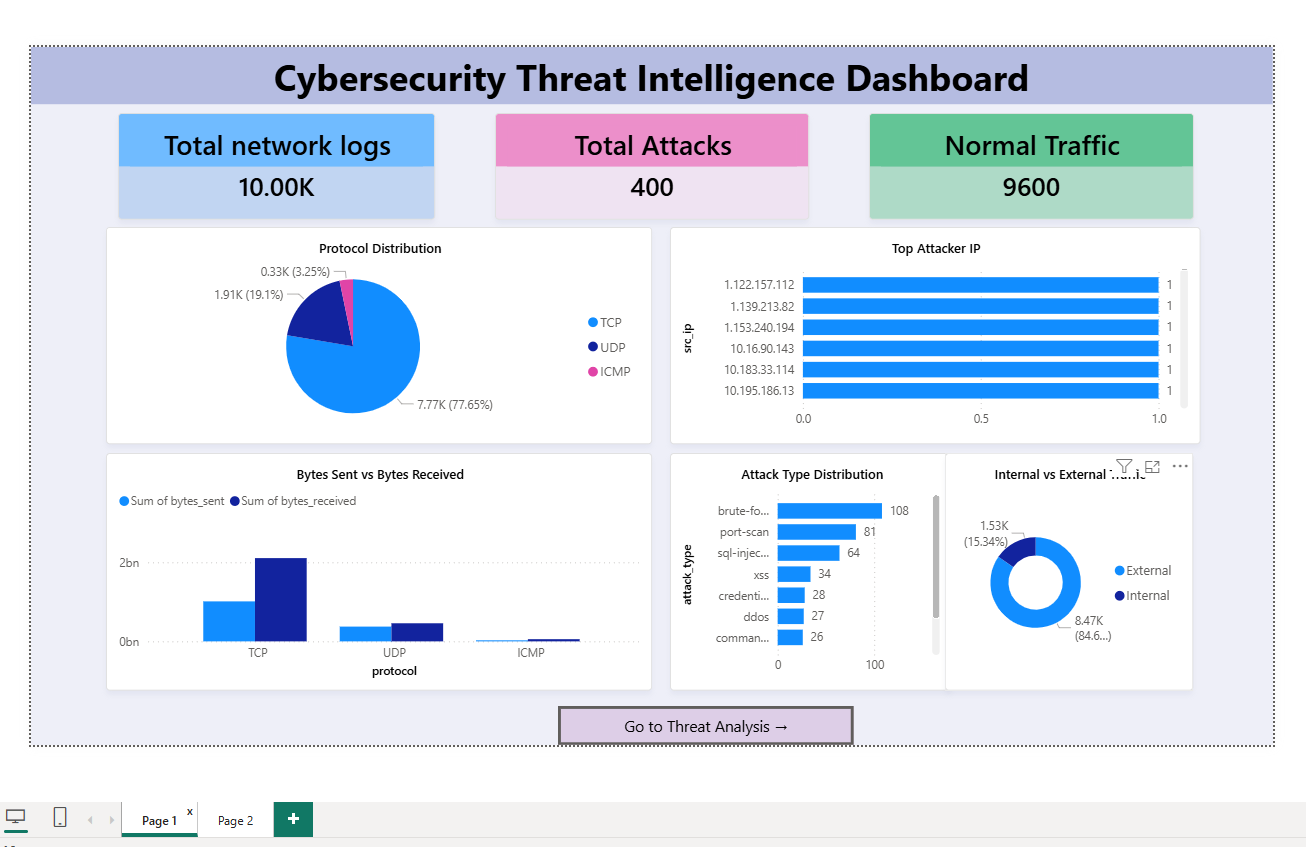

This screenshot's page, from the dashboard's own definition file:
{"tool":"powerbi","page":{"name":"Page 1","canvas":[1280,720],"ordinal":0},"visuals":[{"type":"textbox","box":[0,0,1280,59.2],"z":0},{"type":"card","title":"Total network logs","fields":{"Values":["CountNonNull(cybersecurity.timestamp)"]},"box":[89.4,68.3,326.9,109.6],"z":1000},{"type":"card","title":"Total Attacks","fields":{"Values":["CountNonNull(cybersecurity.attack_type)"]},"box":[477.9,68.3,324,109.6],"z":2000},{"type":"pieChart","title":"Protocol Distribution","fields":{"Category":["cybersecurity.protocol"],"Y":["CountNonNull(cybersecurity.protocol)"]},"box":[76.9,185.6,563.5,224],"z":3000},{"type":"clusteredBarChart","title":"Attack Type Distribution","fields":{"Category":["cybersecurity.attack_type"],"Y":["CountNonNull(cybersecurity.attack_type)"]},"box":[658.7,418.3,291.3,245.2],"z":4000},{"type":"clusteredBarChart","title":"Top Attacker IP","fields":{"Category":["cybersecurity.src_ip"],"Y":["CountNonNull(cybersecurity.src_ip)"]},"box":[658.7,185.6,547.1,224],"z":5000},{"type":"clusteredColumnChart","title":"Bytes Sent vs Bytes Received","fields":{"Category":["cybersecurity.protocol"],"Y":["Sum(cybersecurity.bytes_sent)","Sum(cybersecurity.bytes_received)"]},"box":[76.9,418.3,563.5,245.2],"z":6000},{"type":"card","title":"Normal Traffic","fields":{"Values":["CountNonNull(cybersecurity.label)"]},"box":[863.5,68.3,334.6,109.6],"z":7000},{"type":"donutChart","title":"Internal vs External Traffic","fields":{"Y":["CountNonNull(cybersecurity.Traffic_Type)"],"Category":["cybersecurity.Traffic_Type"]},"box":[942.3,418.3,255.8,245.2],"z":8000},{"type":"actionButton","title":"Go to Threat Analysis →","box":[543.3,679.8,304.8,40.4],"z":9000}]}

Visuals, with their boxes on the page's 1280x720 design canvas (x1, y1, x2, y2). These are canvas units, not pixel positions in the 1306x847 screenshot, which may show the page scaled, cropped or inside an application window:
textbox: bbox(0, 0, 1280, 59)
"Total network logs" card: bbox(89, 68, 416, 178)
"Total Attacks" card: bbox(478, 68, 802, 178)
"Protocol Distribution" pieChart: bbox(77, 186, 640, 410)
"Attack Type Distribution" clusteredBarChart: bbox(659, 418, 950, 664)
"Top Attacker IP" clusteredBarChart: bbox(659, 186, 1206, 410)
"Bytes Sent vs Bytes Received" clusteredColumnChart: bbox(77, 418, 640, 664)
"Normal Traffic" card: bbox(864, 68, 1198, 178)
"Internal vs External Traffic" donutChart: bbox(942, 418, 1198, 664)
"Go to Threat Analysis →" actionButton: bbox(543, 680, 848, 720)
